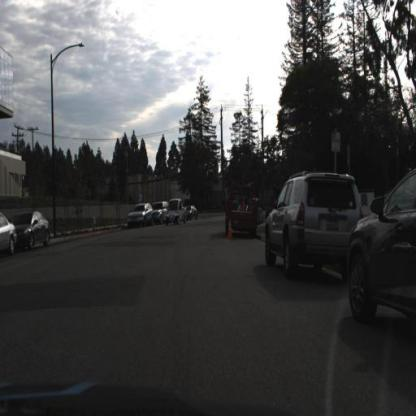car: (346, 164, 416, 336), (264, 170, 345, 275), (13, 208, 53, 257), (223, 189, 259, 240), (17, 213, 52, 249), (1, 205, 20, 259), (127, 201, 155, 230), (165, 196, 189, 229)
